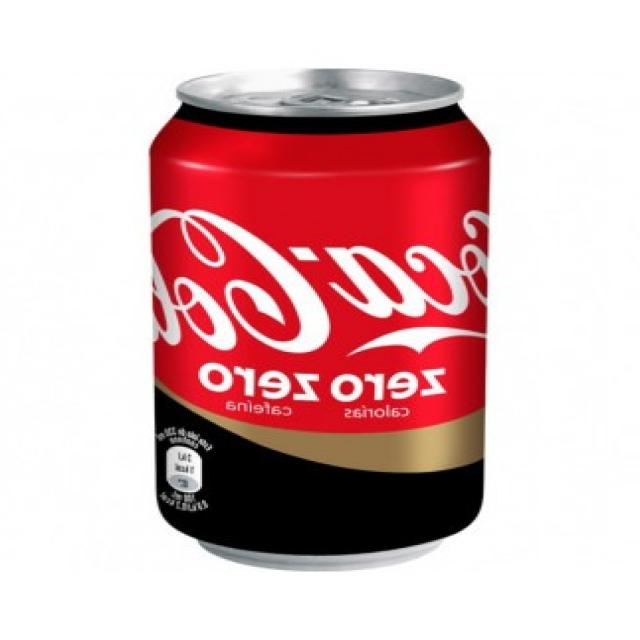coca cola: (148, 197, 491, 370), (150, 198, 490, 362)
